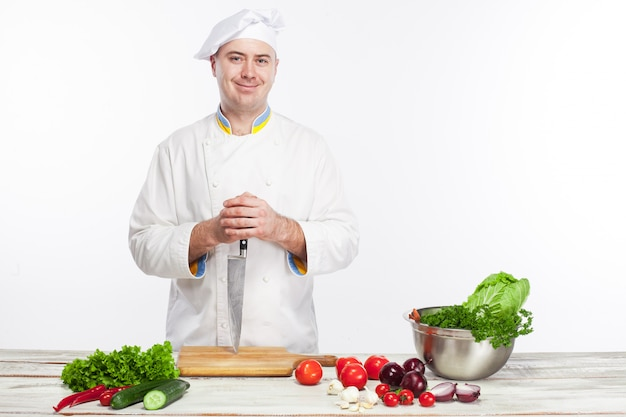knife: (224, 239, 247, 355)
